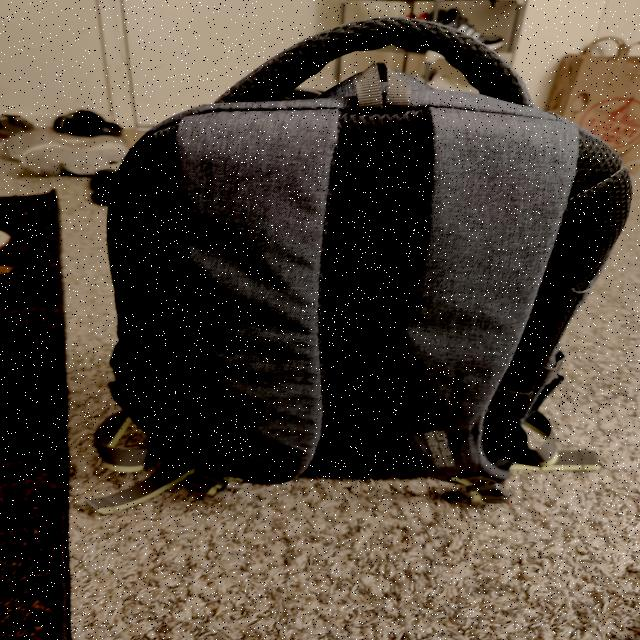bag: (110, 26, 601, 464)
